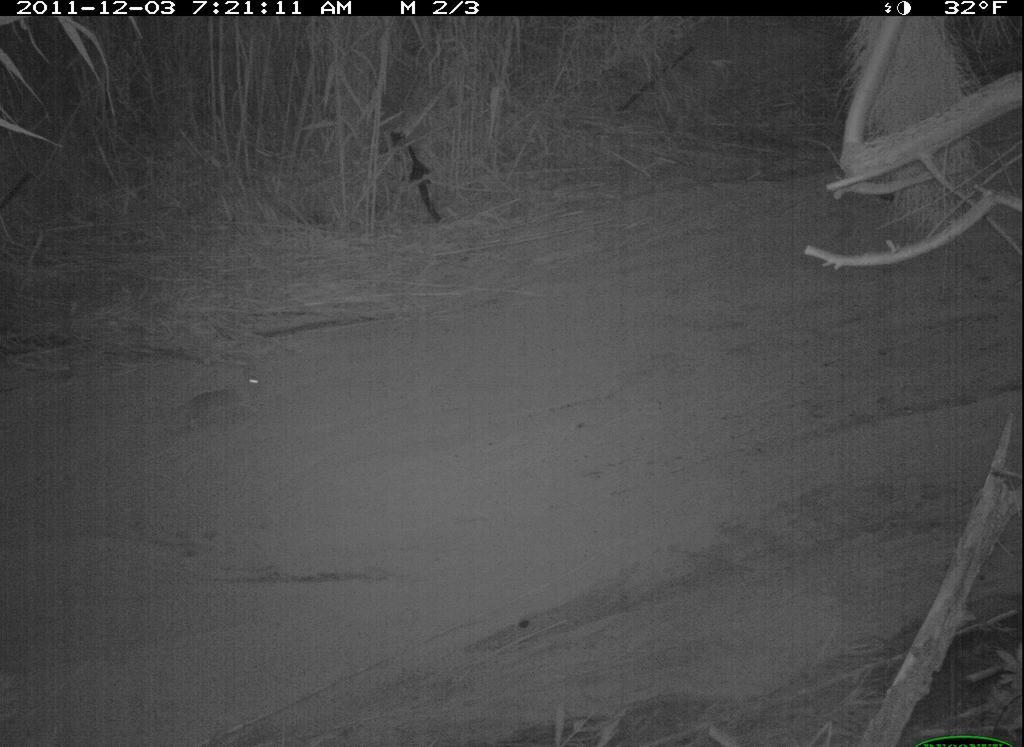rabbit: (166, 359, 283, 457)
